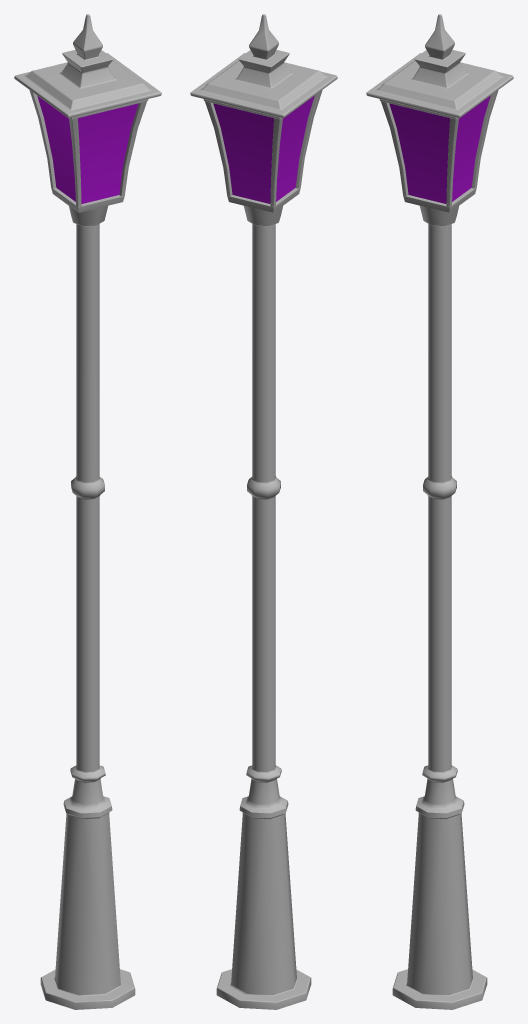
File: SM_STREET_LIGHT.fbx
3 renders of one model, left to right at view 1: azimuth 30°, elevation 25°; view 2: azimuth 150°, elevation 25°; view 3: azimuth 330°, elevation 25°, orthographic.
Parts seen in each view (by area): view 1: SM_STREET_LIGHT; view 2: SM_STREET_LIGHT; view 3: SM_STREET_LIGHT.
Boxes of the visible parts, x1,y1,x2,y2 form: SM_STREET_LIGHT: (14,14,161,1009); SM_STREET_LIGHT: (190,14,337,1009); SM_STREET_LIGHT: (366,14,513,1009).
Bounding box in the file's own units: 36.34 × 361 × 36.34.
